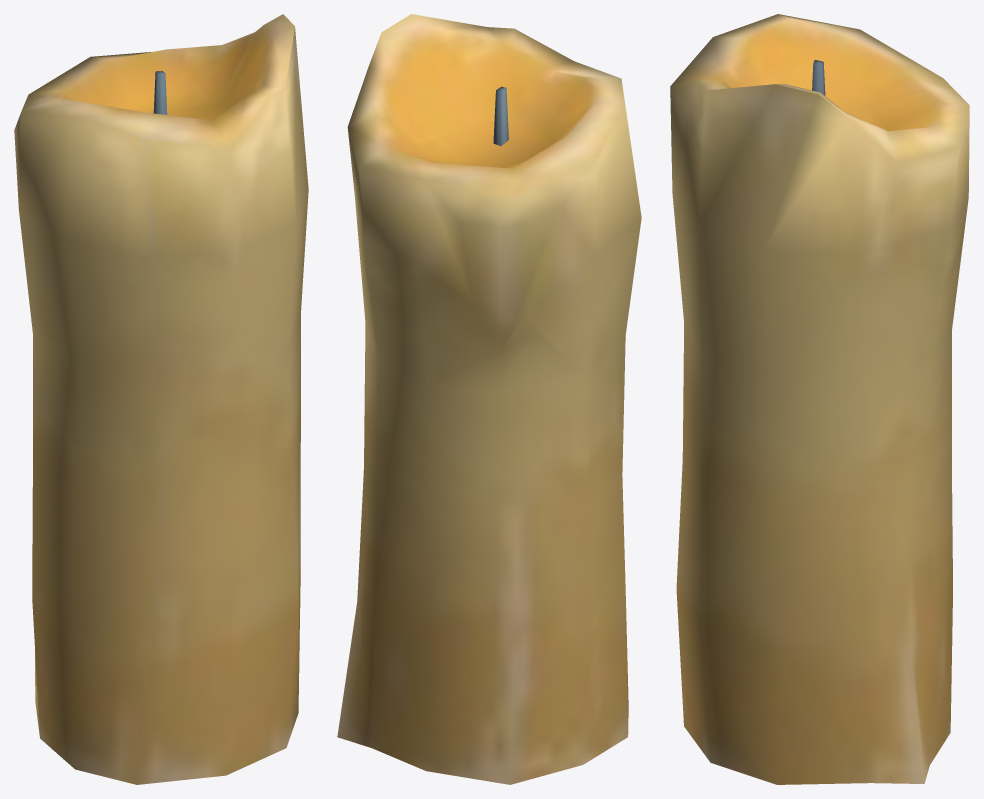
File: Candle_2.gltf
3 views of the same model, side by side, from view 1: azimuth 30°, elevation 25°; view 2: azimuth 150°, elevation 25°; view 3: azimuth 270°, elevation 25° (orthographic). The views are drawn at different scales.
Visible parts, largest first — view 1: Candle_2; view 2: Candle_2; view 3: Candle_2.
Part boxes in pixels (box(x1,y1,x2,y2)): Candle_2: box(14, 14, 308, 784); Candle_2: box(337, 14, 641, 784); Candle_2: box(670, 14, 969, 784).
Bounding box in the file's own units: 0.0944 × 0.2511 × 0.0975.
1 material, 1 textured.
